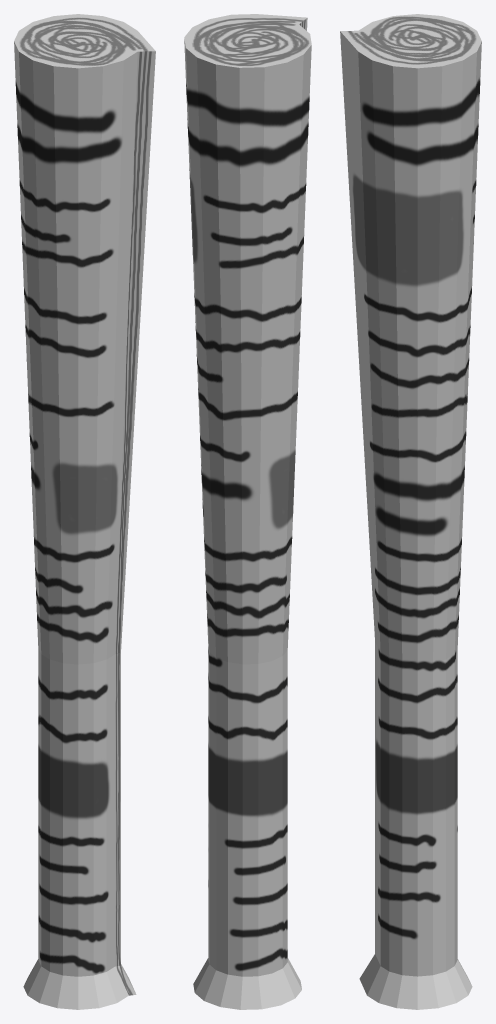
The model's file is NEWSPAPER.fbx.
The picture shows the model from 3 angles, left to right: view 1: azimuth 90°, elevation 25°; view 2: azimuth 150°, elevation 25°; view 3: azimuth 270°, elevation 25°; orthographic projection.
Visible parts, largest first — view 1: Cylinder; view 2: Cylinder; view 3: Cylinder.
Boxes of the visible parts, box(x1,y1,x2,y2) form: Cylinder: box(14, 14, 155, 1009); Cylinder: box(184, 14, 311, 1009); Cylinder: box(340, 14, 481, 1009).
Size of the model in its own units: 38.46 by 312 by 42.45.
Materials: 1 (1 with a texture image).
